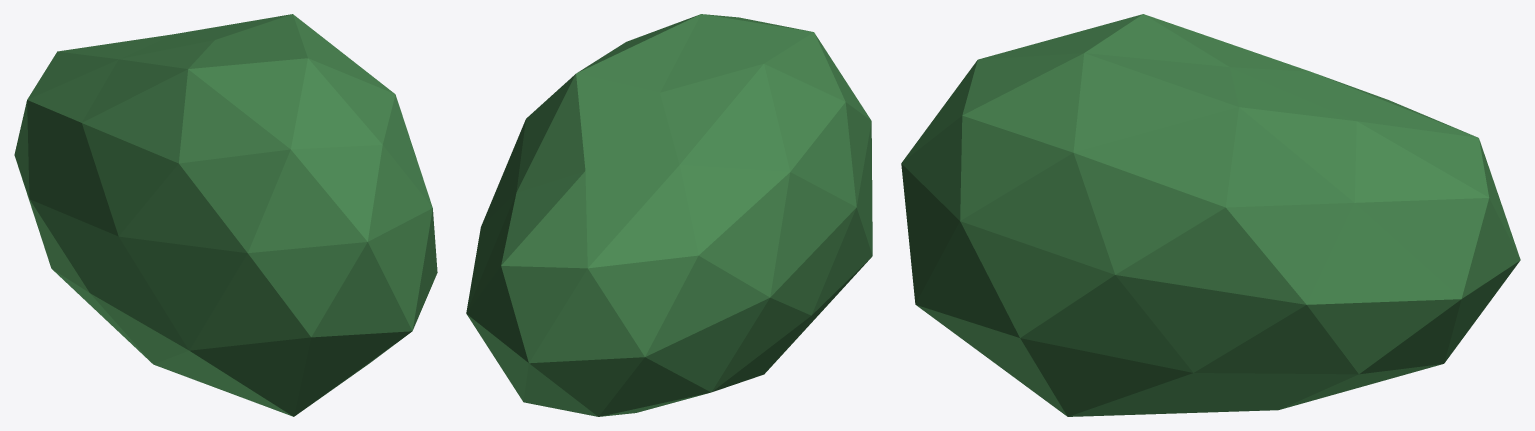
File: Bush2.fbx
The picture shows the model from 3 angles, left to right: view 1: azimuth 30°, elevation 25°; view 2: azimuth 150°, elevation 25°; view 3: azimuth 270°, elevation 25°; orthographic projection. The views are drawn at different scales.
Visible parts, largest first — view 1: Icosphere.014; view 2: Icosphere.014; view 3: Icosphere.014.
Boxes of the visible parts, <box> form: Icosphere.014: <box>14,14,437,416</box>; Icosphere.014: <box>466,14,872,416</box>; Icosphere.014: <box>901,14,1520,416</box>.
Size of the model in its own units: 102 by 102 by 171.
